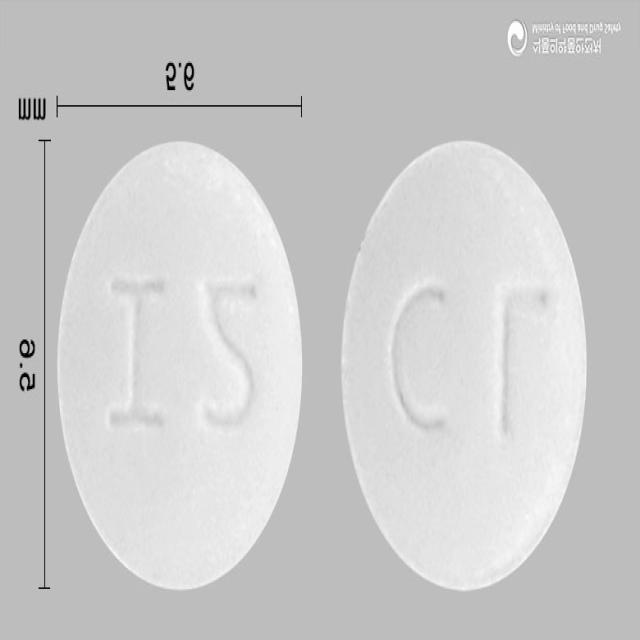Ciprofloxacin Tab- Samsung: (341, 139, 588, 592), (58, 143, 304, 592)
